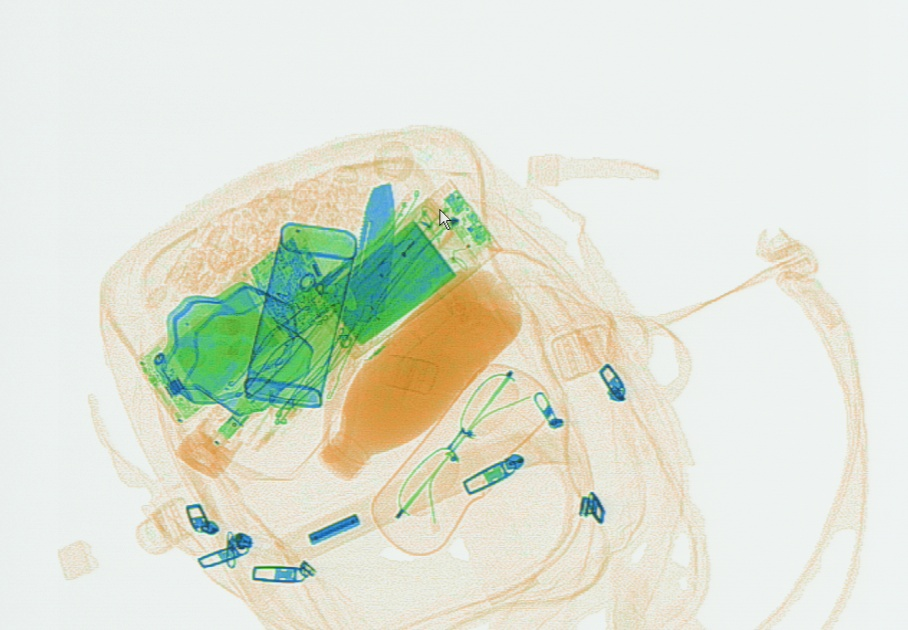knife: (331, 181, 396, 449)
zippooil: (241, 214, 361, 402)
